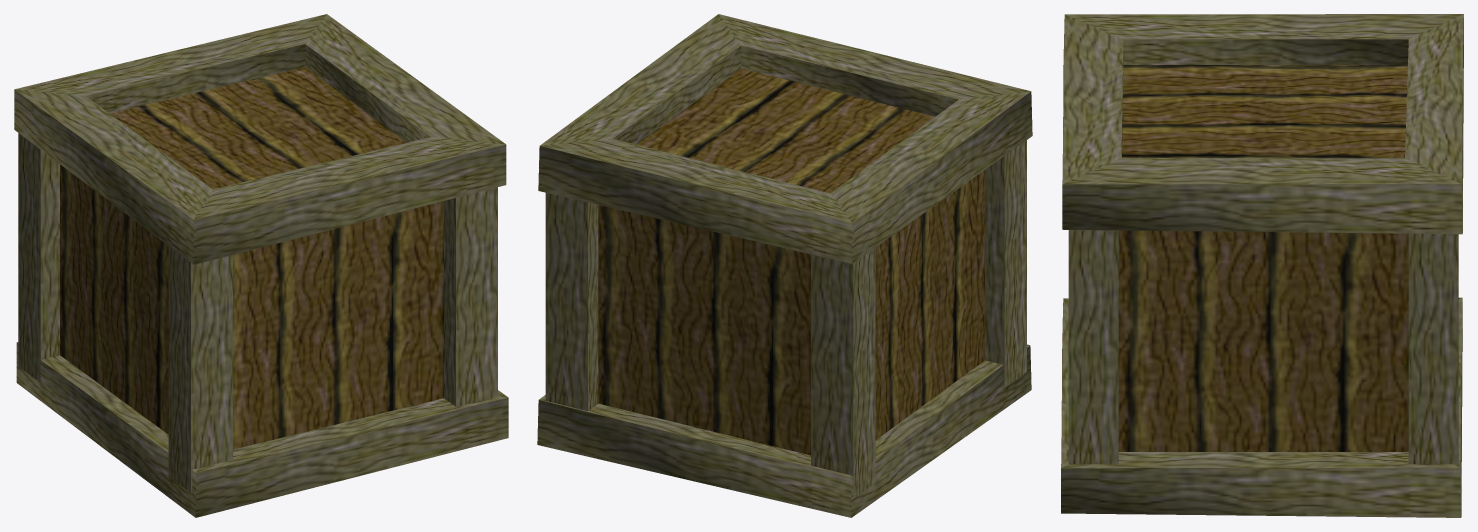
File: crate01.obj
The picture shows the model from 3 angles, left to right: view 1: azimuth 30°, elevation 25°; view 2: azimuth 150°, elevation 25°; view 3: azimuth 270°, elevation 25°; orthographic projection. The views are drawn at different scales.
Visible parts, largest first — view 1: Box01, Duplicate08, Duplicate09, Duplicate01, Duplicate03, Box02; view 2: Box01, Duplicate08, Duplicate09, Box02, Duplicate02, Duplicate01; view 3: Box01, Duplicate08, Duplicate09, Duplicate03, Duplicate02.
Boxes of the visible parts, x1,y1,x2,y2 form: Box01: (60,67,443,449); Duplicate08: (14,14,506,264); Duplicate09: (16,342,508,517); Duplicate01: (168,246,232,492); Duplicate03: (444,187,497,406); Box02: (18,133,59,382); Box01: (598,68,984,455); Duplicate08: (538,14,1032,263); Duplicate09: (537,344,1031,517); Box02: (811,248,875,498); Duplicate02: (545,193,598,410); Duplicate01: (985,140,1026,387); Box01: (1118,65,1408,451); Duplicate08: (1062,14,1463,234); Duplicate09: (1061,297,1462,517); Duplicate03: (1068,230,1118,464); Duplicate02: (1408,233,1458,464).
Size of the model in its own units: 25.33 by 22.94 by 25.16.
